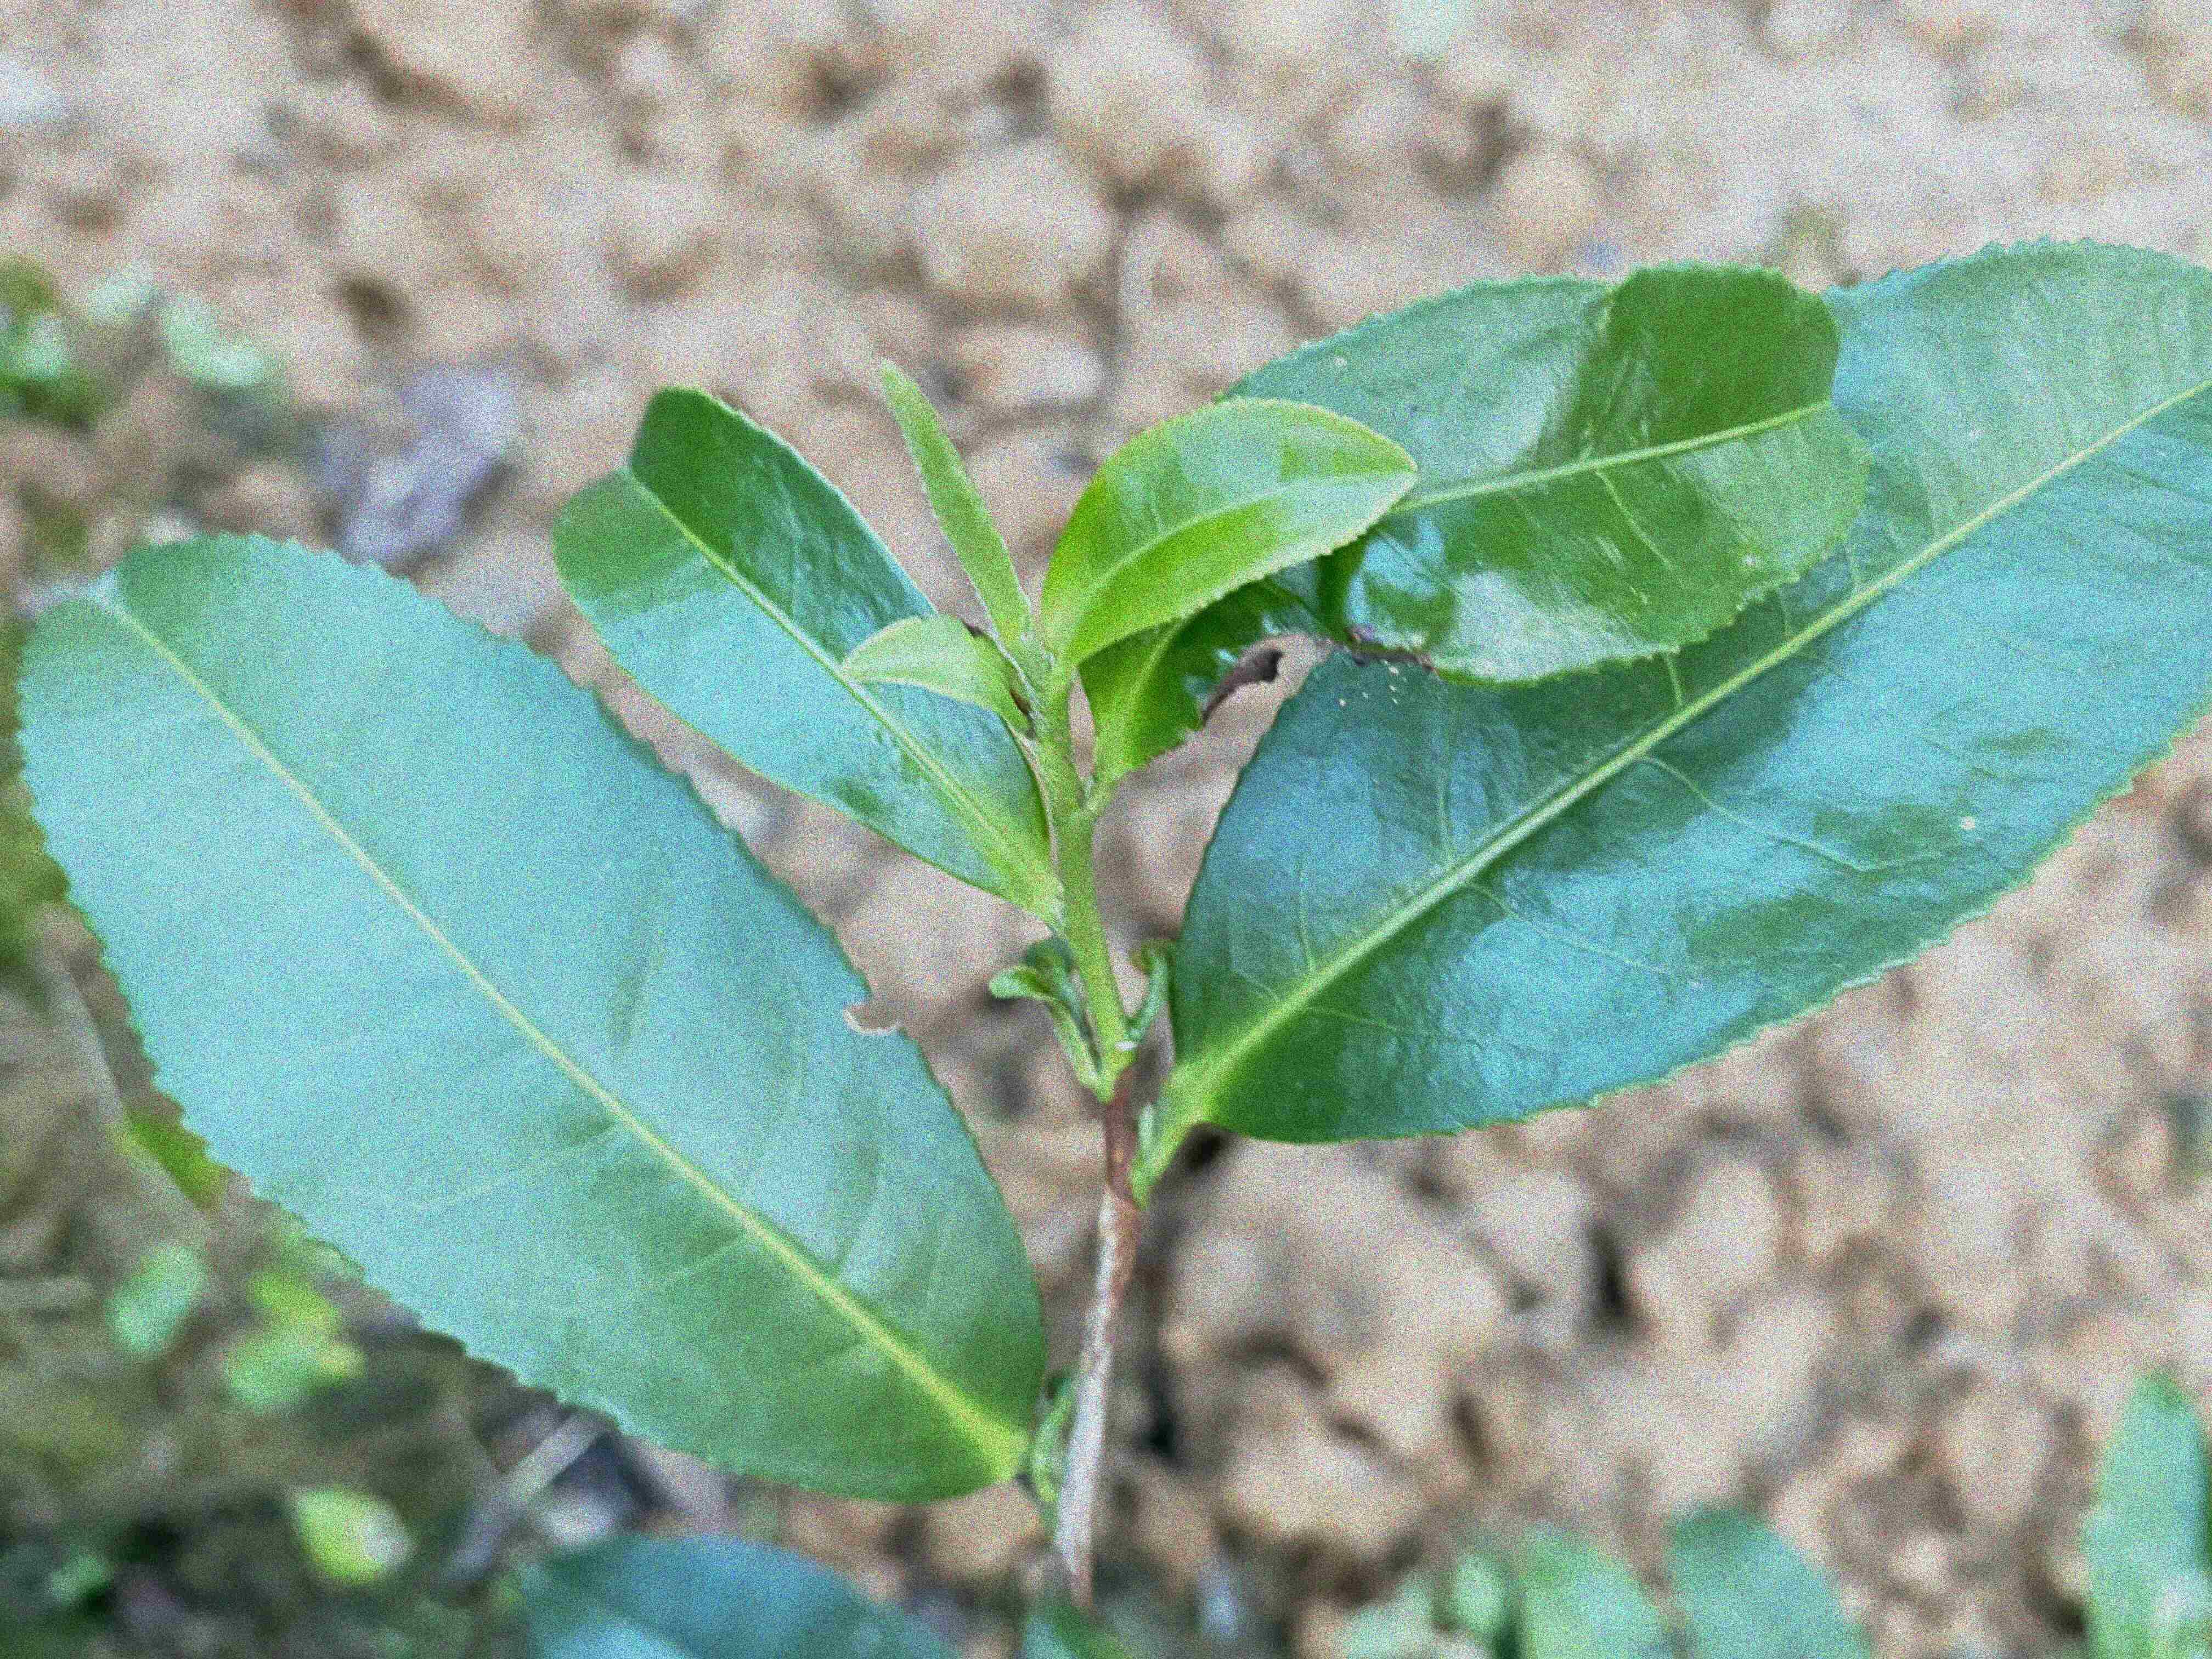chihuo_low: (16, 528, 1047, 1509)
healthy: (549, 387, 1049, 918), (1045, 397, 1423, 671)
tanju_high: (1080, 261, 1878, 770)
tanju_low: (834, 612, 1031, 735)
